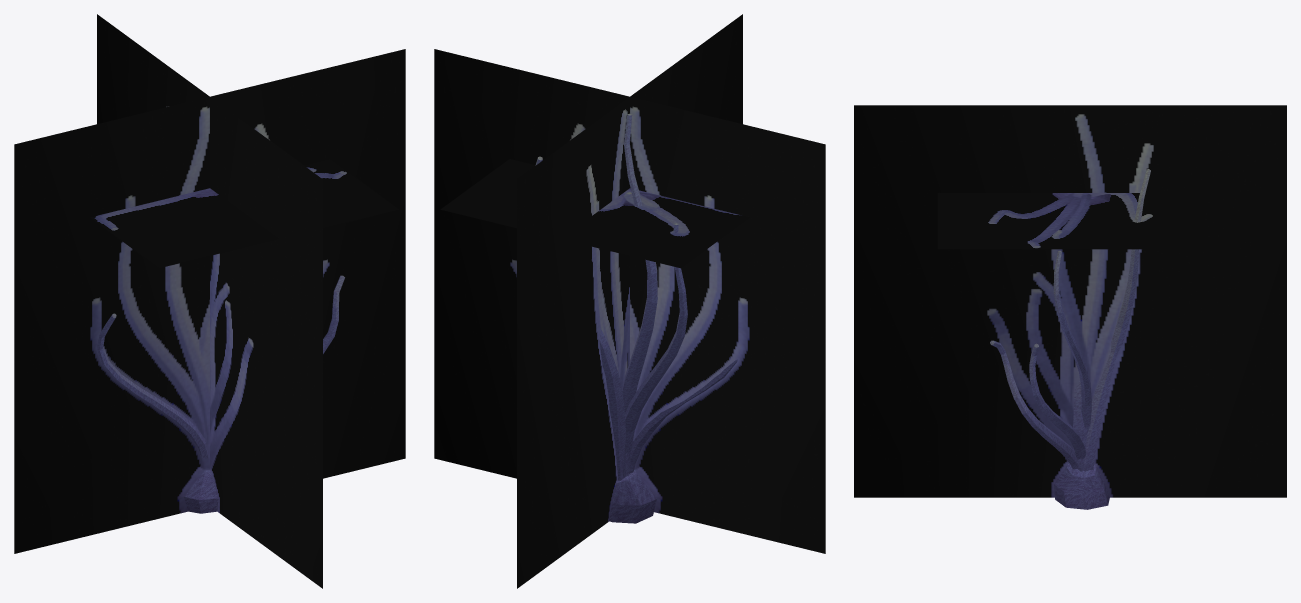
The model's file is Coral-08-Chicotes-Indigo.glb.
The picture shows the model from 3 angles, left to right: view 1: azimuth 30°, elevation 25°; view 2: azimuth 150°, elevation 25°; view 3: azimuth 270°, elevation 25°; orthographic projection. The views are drawn at different scales.
Visible parts, largest first — view 1: Coral-08-Chicotes-Indigo impostor, Colonia; view 2: Coral-08-Chicotes-Indigo impostor, Colonia; view 3: Coral-08-Chicotes-Indigo impostor, Colonia.
Part boxes in pixels (box(x1,y1,x2,y2)): Coral-08-Chicotes-Indigo impostor: box(14, 14, 405, 588); Colonia: box(97, 275, 344, 513); Coral-08-Chicotes-Indigo impostor: box(434, 14, 825, 588); Colonia: box(535, 113, 737, 523); Coral-08-Chicotes-Indigo impostor: box(854, 105, 1286, 497); Colonia: box(990, 169, 1150, 509).
Size of what is drawn, in the model's own units: 1.73 by 1.73 by 1.73.
Materials: 2 (2 with a texture image).
